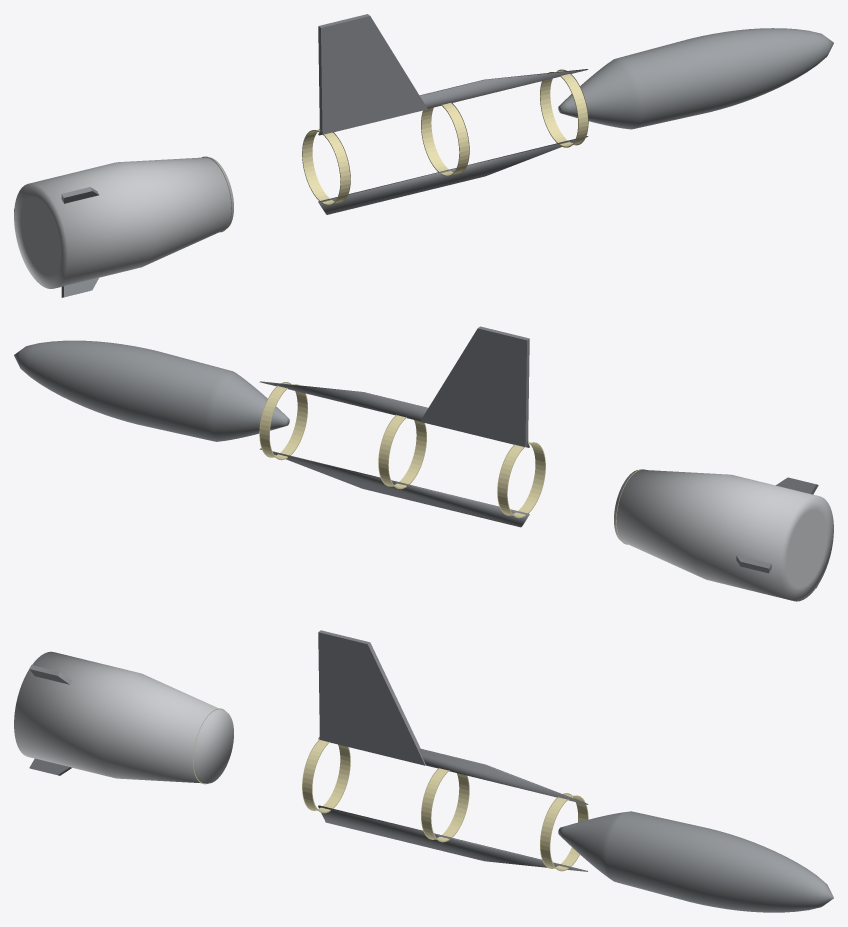
Rendered from US_LAM_Tomahawk_BlockV_LOD0.fbx.
3 renders of one model, top to bottom at view 1: azimuth 30°, elevation 25°; view 2: azimuth 150°, elevation 25°; view 3: azimuth 330°, elevation 25°, orthographic.
Visible parts, largest first — view 1: WPN_US_LAM_Tomahawk_BlockV_LOD0_Tail, WPN_US_LAM_Tomahawk_BlockV_LOD0_Body, WPN_US_LAM_Tomahawk_BlockV_LOD0_Wings, WPN_US_LAM_Tomahawk_BlockV_LOD0_Detail, WPN_US_LAM_Tomahawk_BlockV_LOD0_Marking, WPN_US_LAM_Tomahawk_BlockV_LOD0_Fins; view 2: WPN_US_LAM_Tomahawk_BlockV_LOD0_Tail, WPN_US_LAM_Tomahawk_BlockV_LOD0_Body, WPN_US_LAM_Tomahawk_BlockV_LOD0_Wings, WPN_US_LAM_Tomahawk_BlockV_LOD0_Detail, WPN_US_LAM_Tomahawk_BlockV_LOD0_Marking, WPN_US_LAM_Tomahawk_BlockV_LOD0_Fins; view 3: WPN_US_LAM_Tomahawk_BlockV_LOD0_Tail, WPN_US_LAM_Tomahawk_BlockV_LOD0_Body, WPN_US_LAM_Tomahawk_BlockV_LOD0_Wings, WPN_US_LAM_Tomahawk_BlockV_LOD0_Detail, WPN_US_LAM_Tomahawk_BlockV_LOD0_Marking, WPN_US_LAM_Tomahawk_BlockV_LOD0_Fins.
Part boxes in pixels (bbox=[...]): WPN_US_LAM_Tomahawk_BlockV_LOD0_Tail: bbox=[14, 157, 233, 288]; WPN_US_LAM_Tomahawk_BlockV_LOD0_Body: bbox=[558, 28, 833, 129]; WPN_US_LAM_Tomahawk_BlockV_LOD0_Wings: bbox=[318, 14, 427, 134]; WPN_US_LAM_Tomahawk_BlockV_LOD0_Detail: bbox=[318, 69, 588, 214]; WPN_US_LAM_Tomahawk_BlockV_LOD0_Marking: bbox=[201, 69, 588, 232]; WPN_US_LAM_Tomahawk_BlockV_LOD0_Fins: bbox=[14, 187, 99, 297]; WPN_US_LAM_Tomahawk_BlockV_LOD0_Tail: bbox=[614, 470, 833, 601]; WPN_US_LAM_Tomahawk_BlockV_LOD0_Body: bbox=[14, 340, 289, 441]; WPN_US_LAM_Tomahawk_BlockV_LOD0_Wings: bbox=[420, 326, 529, 447]; WPN_US_LAM_Tomahawk_BlockV_LOD0_Detail: bbox=[259, 381, 529, 527]; WPN_US_LAM_Tomahawk_BlockV_LOD0_Marking: bbox=[259, 382, 645, 544]; WPN_US_LAM_Tomahawk_BlockV_LOD0_Fins: bbox=[736, 477, 818, 588]; WPN_US_LAM_Tomahawk_BlockV_LOD0_Tail: bbox=[14, 651, 233, 783]; WPN_US_LAM_Tomahawk_BlockV_LOD0_Body: bbox=[558, 811, 833, 912]; WPN_US_LAM_Tomahawk_BlockV_LOD0_Wings: bbox=[318, 630, 425, 765]; WPN_US_LAM_Tomahawk_BlockV_LOD0_Detail: bbox=[318, 736, 588, 871]; WPN_US_LAM_Tomahawk_BlockV_LOD0_Marking: bbox=[193, 708, 588, 871]; WPN_US_LAM_Tomahawk_BlockV_LOD0_Fins: bbox=[29, 665, 71, 775].
Bounding box in the file's own units: 6.25 × 0.8112 × 1.46.
